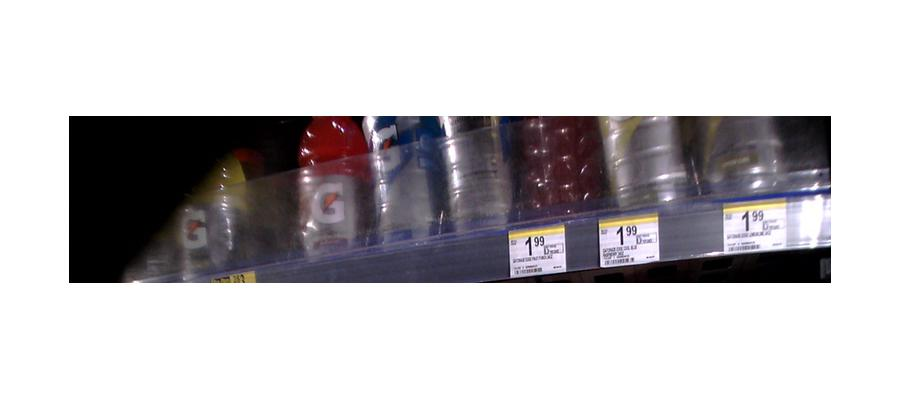bottle: (298, 110, 373, 258), (604, 108, 699, 214), (375, 112, 441, 249), (443, 112, 513, 238), (701, 110, 790, 198), (515, 114, 572, 217), (205, 140, 249, 273)
